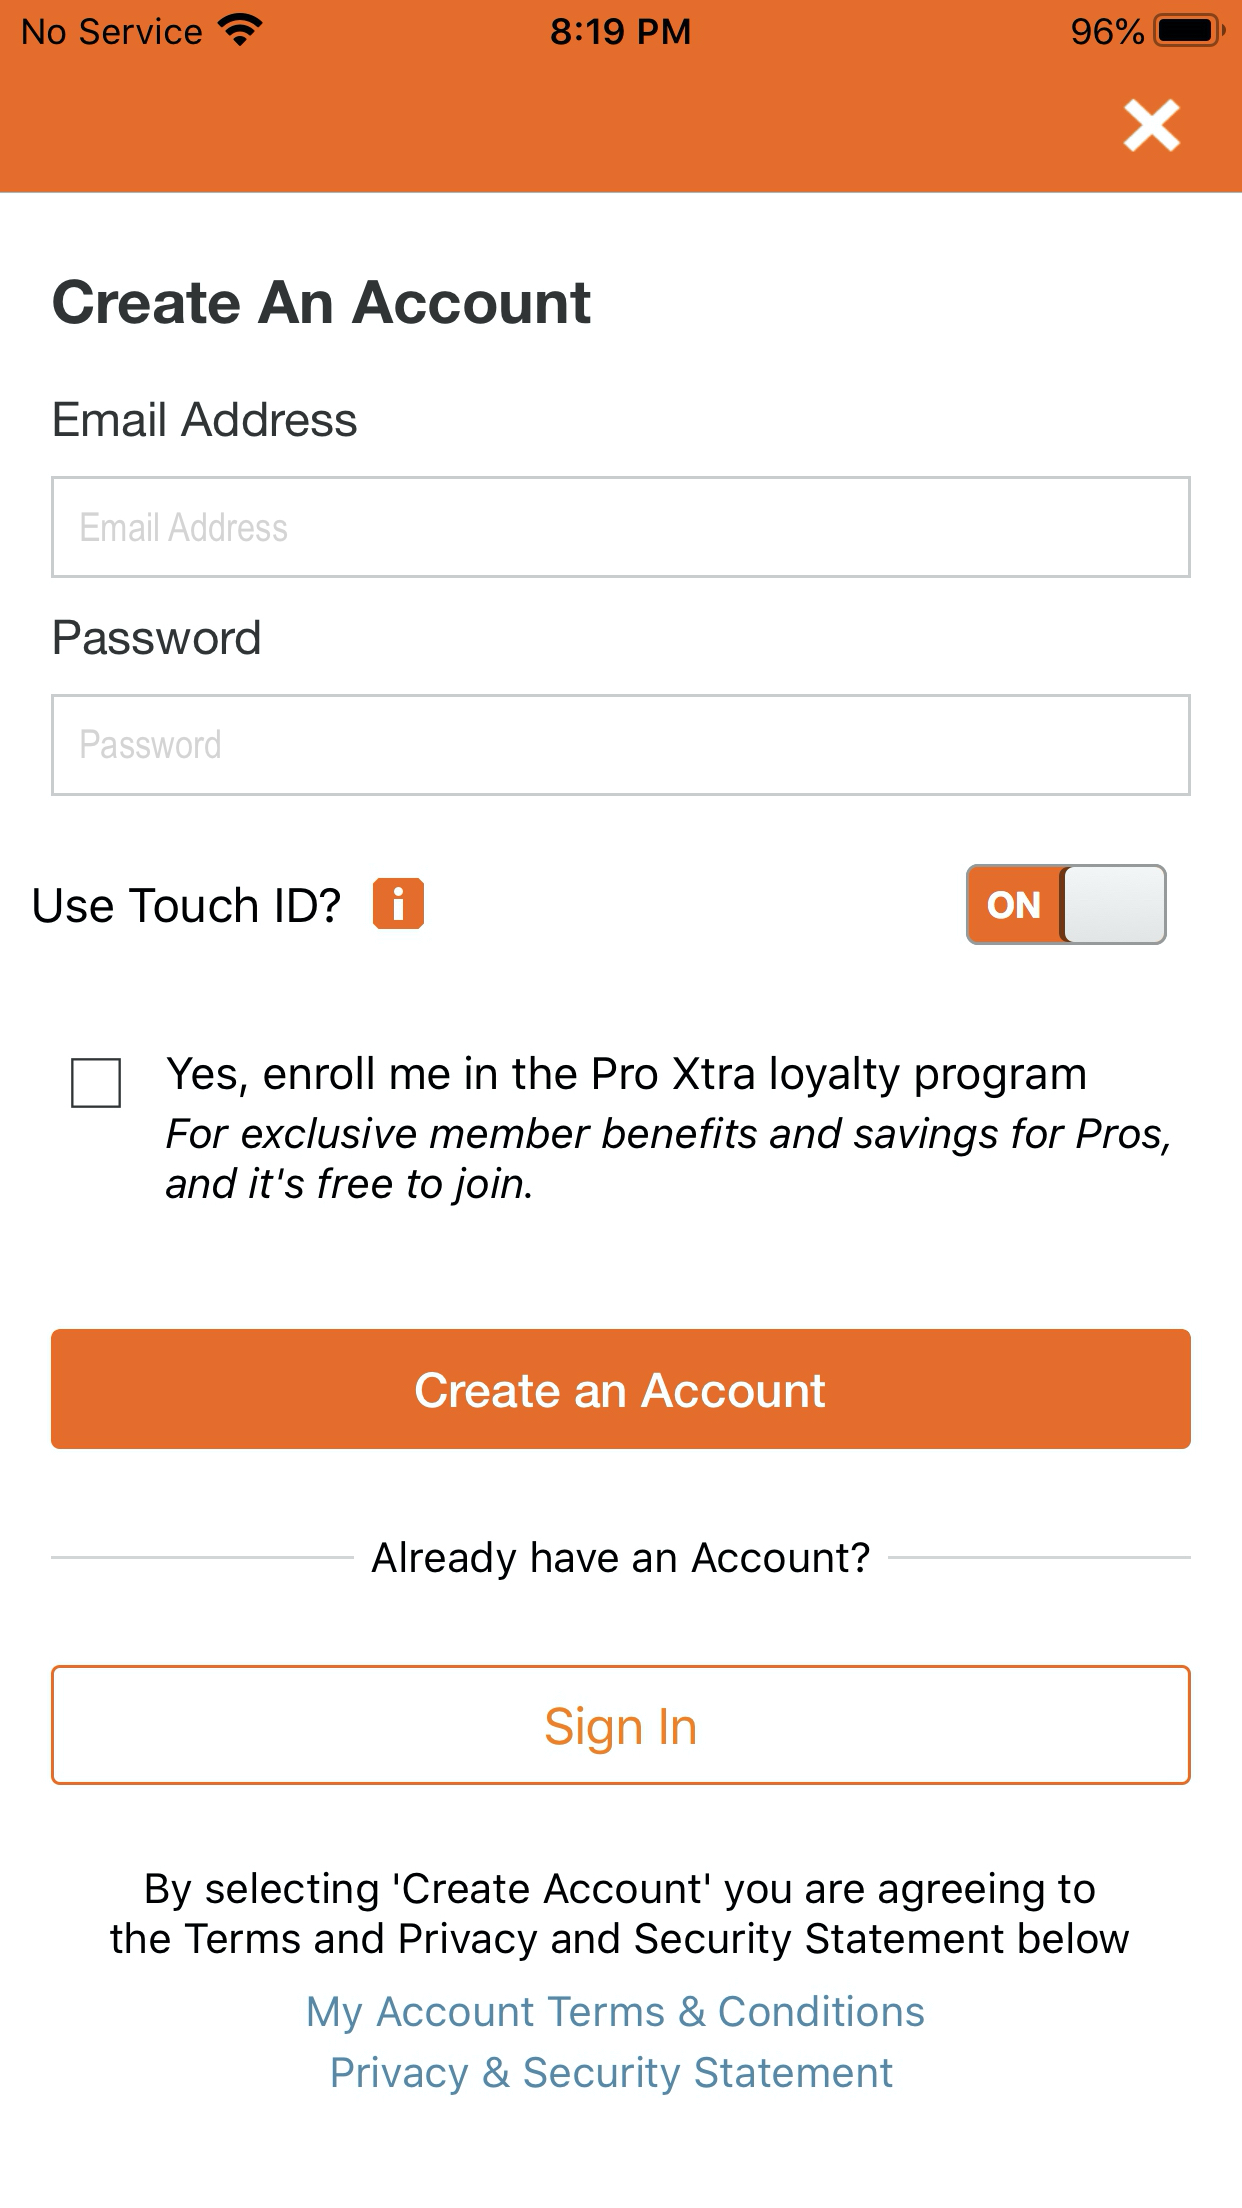CheckBox: (71, 1059, 121, 1109)
EditText: (52, 476, 1190, 579), (52, 695, 1190, 796)
Icon: (1124, 99, 1181, 153), (373, 878, 425, 930)
Switch: (964, 863, 1168, 946)
Text: (111, 1871, 1128, 1962), (165, 1118, 1169, 1206), (308, 1993, 924, 2094), (168, 1057, 1084, 1099), (53, 279, 591, 325), (373, 1541, 870, 1580), (33, 886, 341, 924), (55, 400, 356, 438), (55, 619, 261, 655), (80, 513, 288, 541), (80, 729, 220, 760)
TextButton: (52, 1664, 1190, 1785), (52, 1328, 1190, 1450)
UpperTaskBar: (2, 2, 1242, 49)
